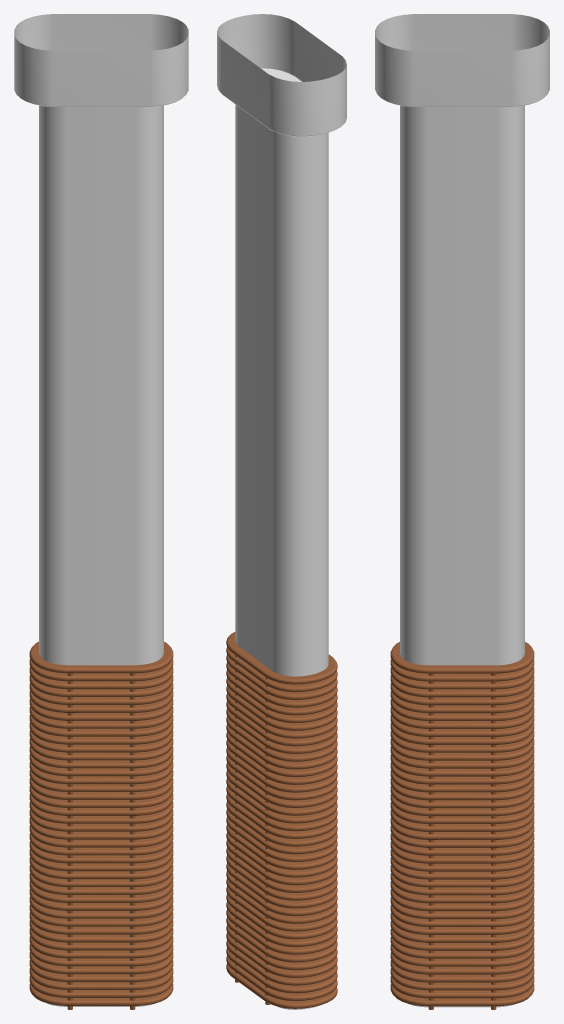
File: Pillar_01.FBX
The picture shows the model from 3 angles, left to right: view 1: azimuth 90°, elevation 25°; view 2: azimuth 210°, elevation 25°; view 3: azimuth 270°, elevation 25°; orthographic projection. The views are drawn at different scales.
Parts seen in each view (by area): view 1: Pillar_01; view 2: Pillar_01; view 3: Pillar_01.
Part boxes in pixels (<box>): Pillar_01: <box>14,14,188,1009</box>; Pillar_01: <box>217,14,346,1009</box>; Pillar_01: <box>375,14,549,1009</box>.
Bounding box in the file's own units: 69.9 × 850 × 140.
